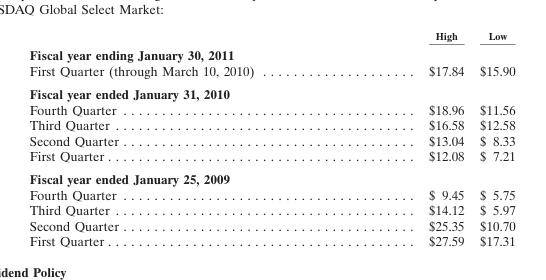table: (28, 28, 514, 248)
table column: (28, 28, 340, 248), (340, 28, 471, 248), (471, 28, 514, 248)
table column header: (28, 28, 514, 44)
table projected row header: (28, 82, 514, 101), (28, 167, 514, 186), (28, 44, 514, 62)
table row: (28, 62, 514, 82), (28, 147, 514, 167), (28, 82, 514, 101), (28, 167, 514, 186), (28, 44, 514, 62), (28, 28, 514, 44), (28, 116, 514, 132), (28, 186, 514, 202), (28, 217, 514, 233), (28, 101, 514, 116), (28, 132, 514, 147), (28, 202, 514, 217), (28, 233, 514, 248)
